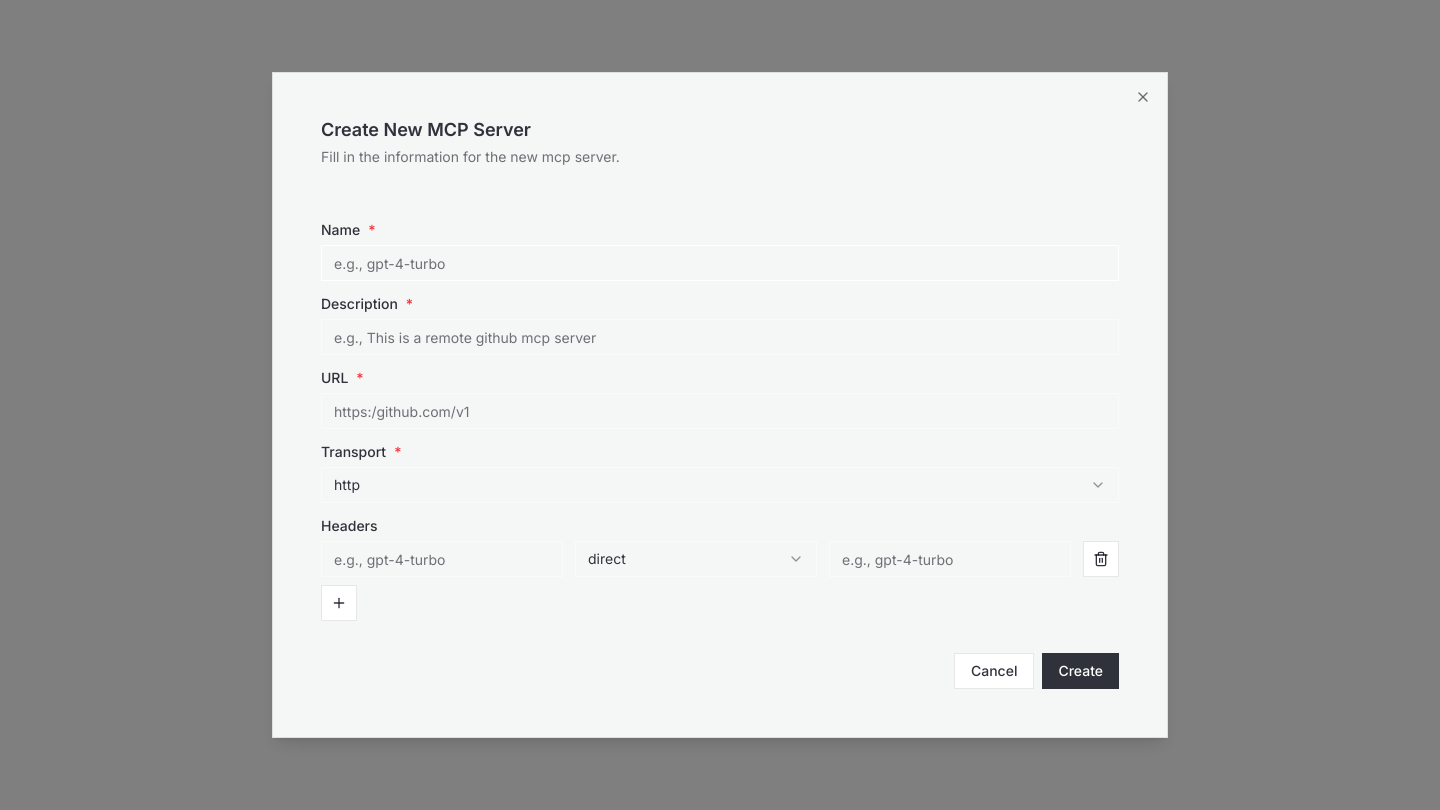
McpEditor › validation › should show error when description is empty on submit
Type "valid-name" into the field labelled "Name *" at (720, 263), box [321,245,1119,281]
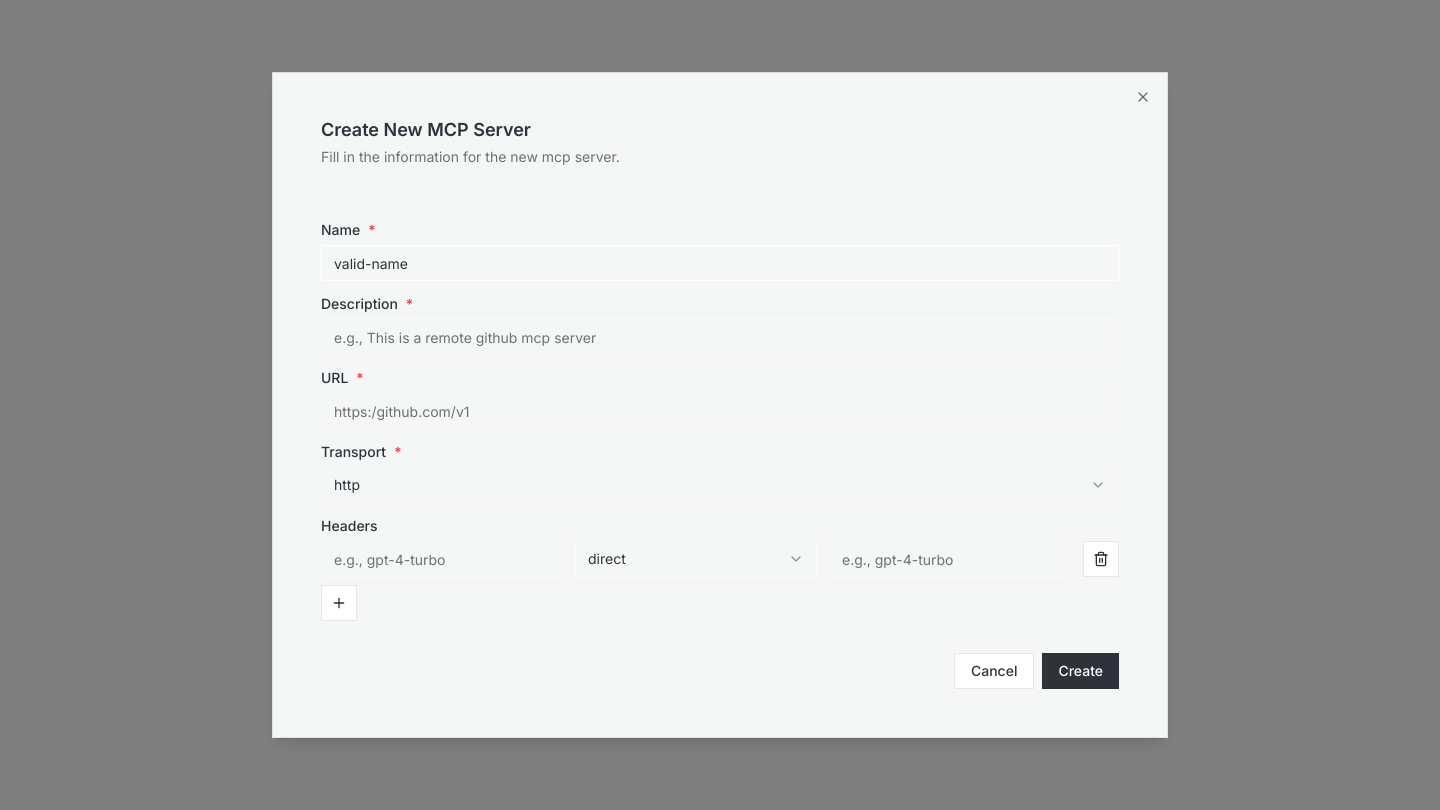
Click the button "Create" at (1081, 671), box [1042,653,1119,689]
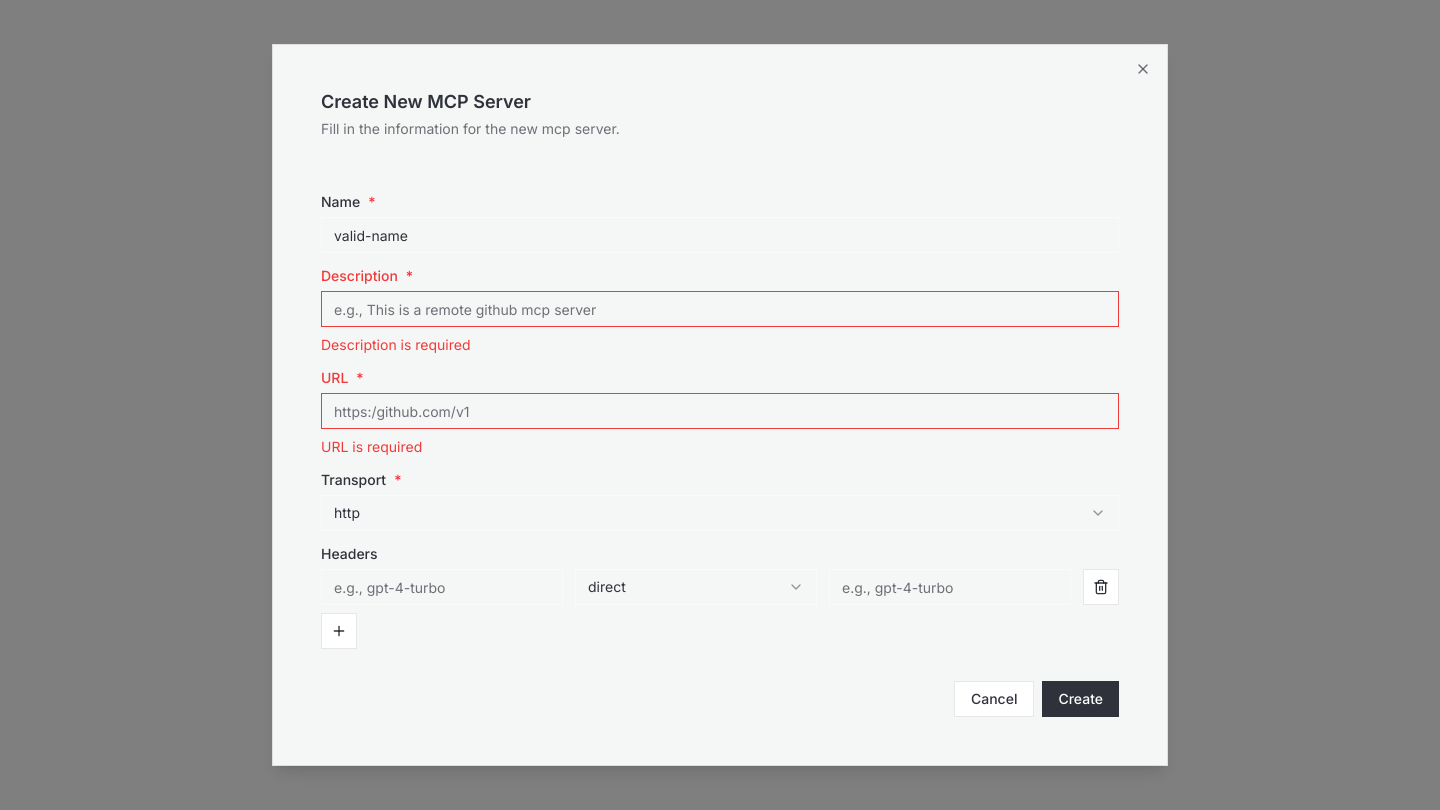
Expected: the text "Description is required" is shown, [321,336,470,353]
